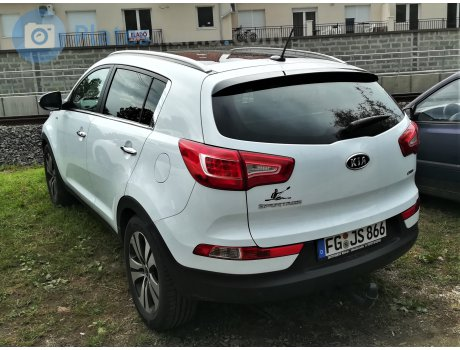License Plates: (319, 231, 397, 249)
